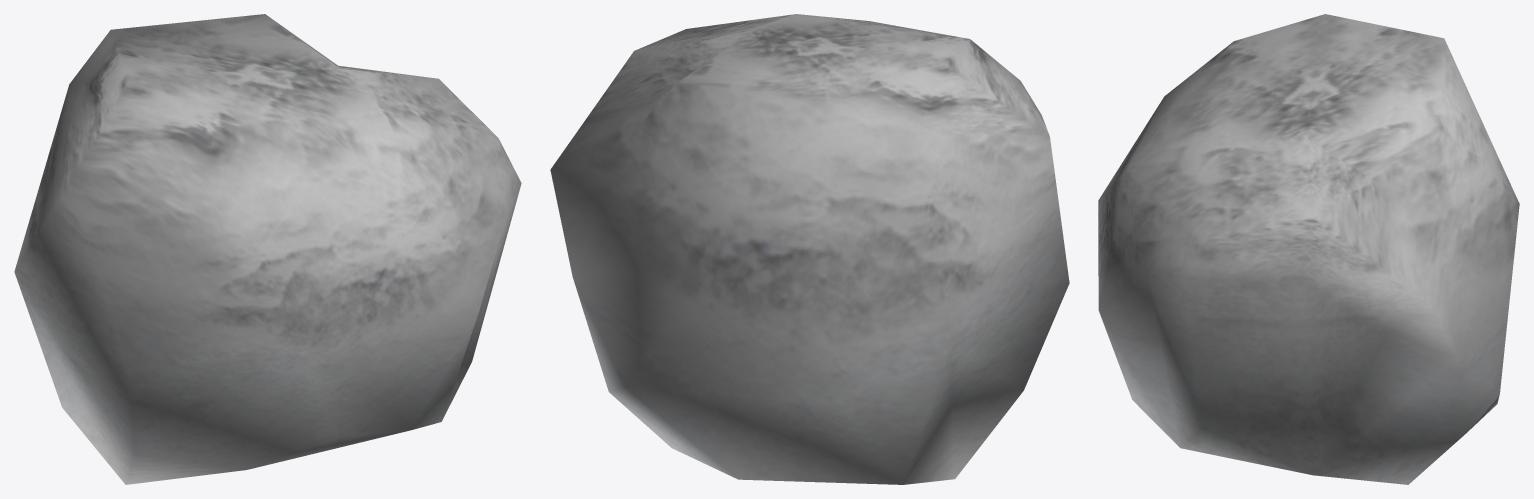
The model's file is snow_d_a07b.fbx.
The picture shows the model from 3 angles, left to right: view 1: azimuth 30°, elevation 25°; view 2: azimuth 150°, elevation 25°; view 3: azimuth 270°, elevation 25°; orthographic projection. The views are drawn at different scales.
Parts seen in each view (by area): view 1: d_a07b; view 2: d_a07b; view 3: d_a07b.
Part boxes in pixels (box(x1,y1,x2,y2)): d_a07b: box(14, 14, 521, 484); d_a07b: box(550, 14, 1069, 484); d_a07b: box(1098, 14, 1519, 484).
Bounding box in the file's own units: 188 × 173 × 174.
